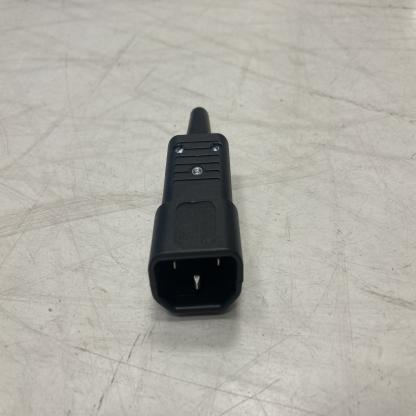SP0000004: (100, 33, 284, 387)
